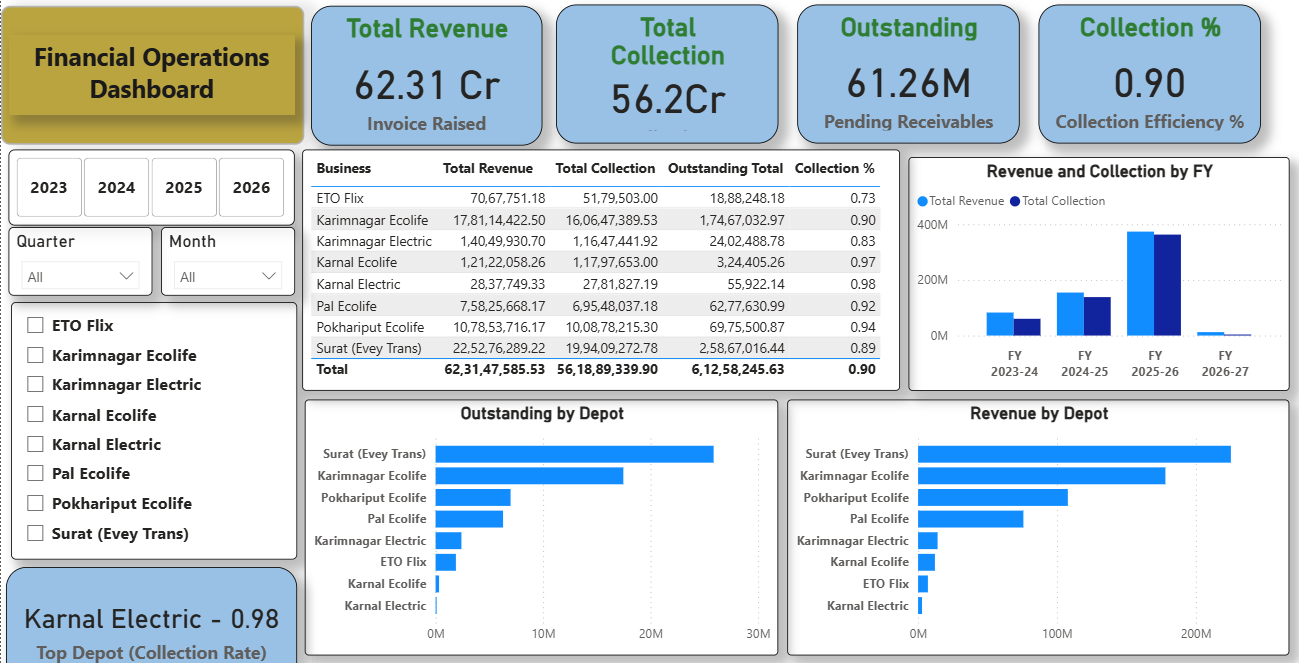

What the dashboard file says about the page in this screenshot:
{"tool":"powerbi","page":{"name":"Page 1","canvas":[1280,720],"ordinal":0},"visuals":[{"type":"textbox","box":[0,13.5,297.1,135.7],"z":0},{"type":"textbox","box":[7.3,41.6,280,78.3],"z":1000},{"type":"advancedSlicerVisual","fields":{"Values":["Dim_Date.Year"]},"box":[7.3,154.1,280,74.6],"z":2000},{"type":"card","title":"Total Revenue","fields":{"Values":["Measure_Table.Total Revenue (Cr)"]},"box":[303.3,13.5,226.2,137],"z":3000},{"type":"card","title":"Total Collection","fields":{"Values":["Measure_Table.Total Collection (Cr Display)"]},"box":[542.9,12.6,217.7,135.7],"z":4000},{"type":"card","title":"Outstanding","fields":{"Values":["Measure_Table.Outstanding Total"]},"box":[778.9,12.6,217.7,135.7],"z":5000},{"type":"card","title":"Collection %","fields":{"Values":["Measure_Table.Collection %"]},"box":[1015,12.6,217.7,135.7],"z":6000},{"type":"slicer","fields":{"Values":["Dim_Business.Business"]},"box":[9.8,303,280,251.9],"z":7000},{"type":"barChart","title":"Revenue by Depot","fields":{"Y":["Measure_Table.Total Revenue"],"Category":["Dim_Business.Business"]},"box":[769.2,398.6,491.6,250.7],"z":8000},{"type":"barChart","title":"Outstanding by Depot","fields":{"Y":["Measure_Table.Outstanding Total"],"Category":["Dim_Business.Business"]},"box":[297.1,398.6,463.5,250.7],"z":9000},{"type":"clusteredColumnChart","title":"Revenue and Collection by FY","fields":{"Y":["Measure_Table.Total Revenue","Measure_Table.Total Collection"],"Category":["Dim_Date.FY"]},"box":[887.8,161.4,373,228.7],"z":10000},{"type":"tableEx","fields":{"Values":["Dim_Business.Business","Measure_Table.Total Revenue","Measure_Table.Total Collection","Measure_Table.Outstanding Total","Measure_Table.Collection %"]},"box":[294.7,154.1,584.5,236],"z":11000},{"type":"slicer","title":"Quarter","fields":{"Values":["Dim_Date.Quarter"]},"box":[7.3,230,140.6,67],"z":12000},{"type":"slicer","title":"Month","fields":{"Values":["Dim_Date.Month Name"]},"box":[156.5,230,130.8,67],"z":13000},{"type":"card","title":"Total Revenue","fields":{"Values":["Measure_Table.Top Depot Name"]},"box":[5,563,285,120],"z":14000},{"type":"actionButton","box":[1108.5,649.2,152.7,70.8],"z":15000},{"type":"textbox","box":[1137.2,667.7,95.4,34.2],"z":16000}]}

Visuals, with their boxes on the page's 1280x720 design canvas (x1, y1, x2, y2). These are canvas units, not pixel positions in the 1299x663 screenshot, which may show the page scaled, cropped or inside an application window:
textbox: [0, 14, 297, 149]
textbox: [7, 42, 287, 120]
advancedSlicerVisual - Dim_Date.Year: [7, 154, 287, 229]
"Total Revenue" card: [303, 14, 530, 150]
"Total Collection" card: [543, 13, 761, 148]
"Outstanding" card: [779, 13, 997, 148]
"Collection %" card: [1015, 13, 1233, 148]
slicer - Dim_Business.Business: [10, 303, 290, 555]
"Revenue by Depot" barChart: [769, 399, 1261, 649]
"Outstanding by Depot" barChart: [297, 399, 761, 649]
"Revenue and Collection by FY" clusteredColumnChart: [888, 161, 1261, 390]
tableEx - Dim_Business.Business x Measure_Table.Total Revenue: [295, 154, 879, 390]
"Quarter" slicer: [7, 230, 148, 297]
"Month" slicer: [156, 230, 287, 297]
"Total Revenue" card: [5, 563, 290, 683]
actionButton: [1108, 649, 1261, 720]
textbox: [1137, 668, 1233, 702]
